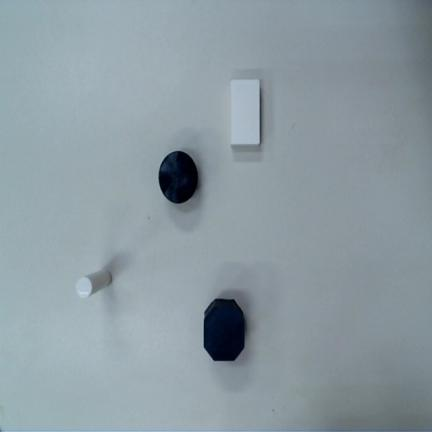Cilindro: (76, 269, 111, 298)
Esfera: (158, 150, 198, 203)
Paralelepipedo: (231, 79, 260, 146)
Prisma_hexagonal: (203, 299, 244, 362)
